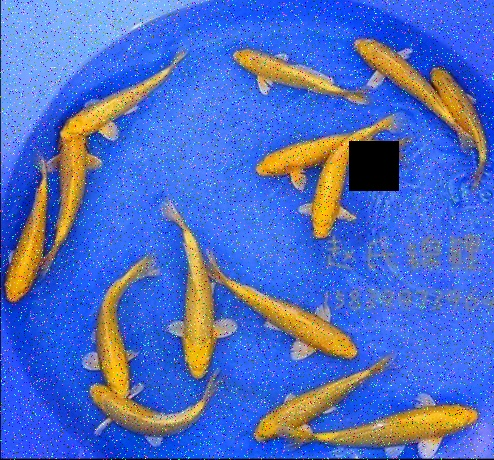fry: (337, 384, 486, 452), (164, 213, 222, 383), (242, 291, 365, 370), (77, 265, 145, 402), (220, 42, 353, 112), (250, 364, 360, 447), (81, 384, 219, 441), (1, 163, 48, 316), (47, 130, 101, 257), (428, 58, 489, 169), (346, 30, 428, 109), (301, 138, 360, 243), (57, 86, 152, 138), (242, 129, 330, 180)
